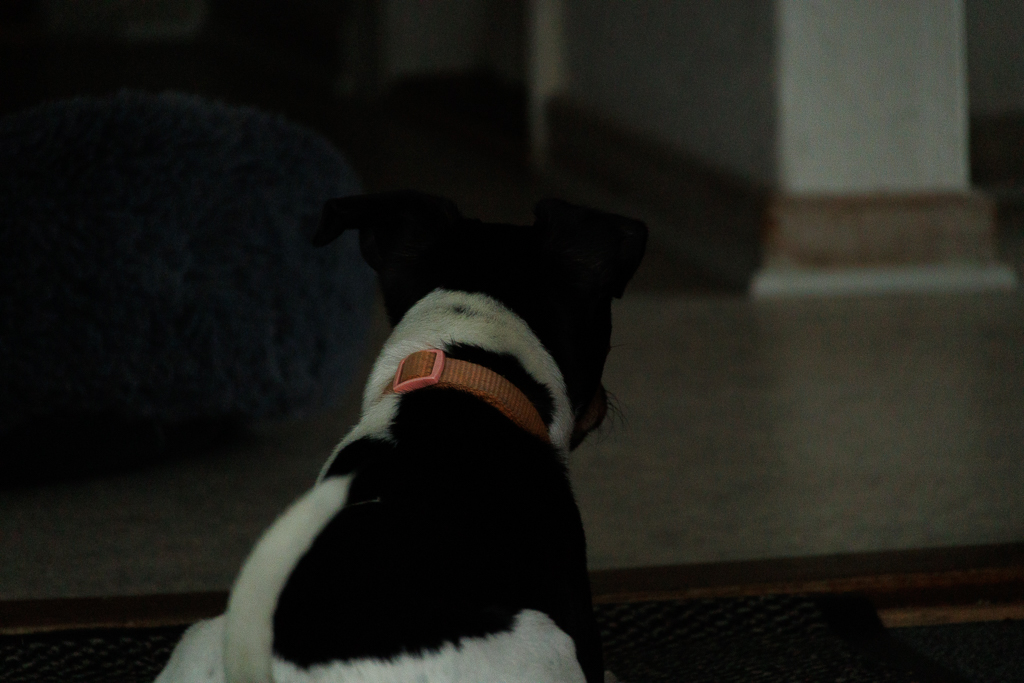Dog: (116, 173, 678, 683)
